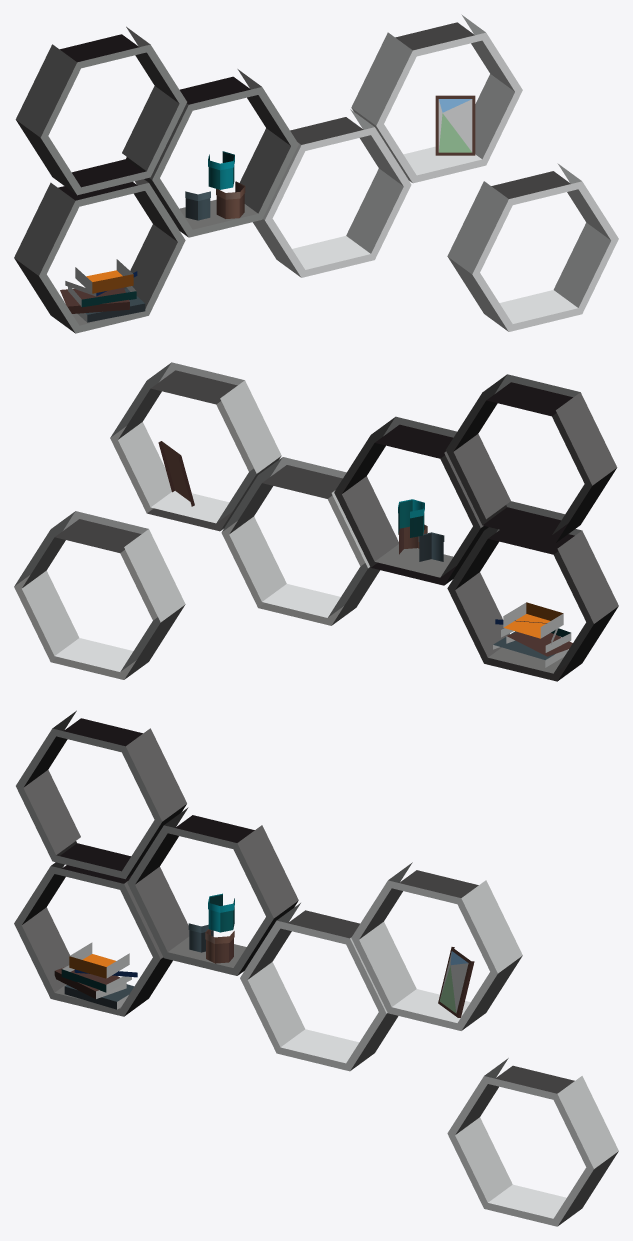
File: M_zhuangshiqiangL03.FBX
3 views of the same model, one above another, from view 1: azimuth 30°, elevation 25°; view 2: azimuth 150°, elevation 25°; view 3: azimuth 330°, elevation 25° (orthographic).
Visible parts, largest first — view 1: M_zhuangshiqiangL03; view 2: M_zhuangshiqiangL03; view 3: M_zhuangshiqiangL03.
Boxes of the visible parts, bbox=[...] form: M_zhuangshiqiangL03: bbox=[14, 14, 618, 333]; M_zhuangshiqiangL03: bbox=[14, 362, 618, 681]; M_zhuangshiqiangL03: bbox=[14, 710, 618, 1226].
Bounding box in the file's own units: 3.64 × 2.25 × 0.3239.
